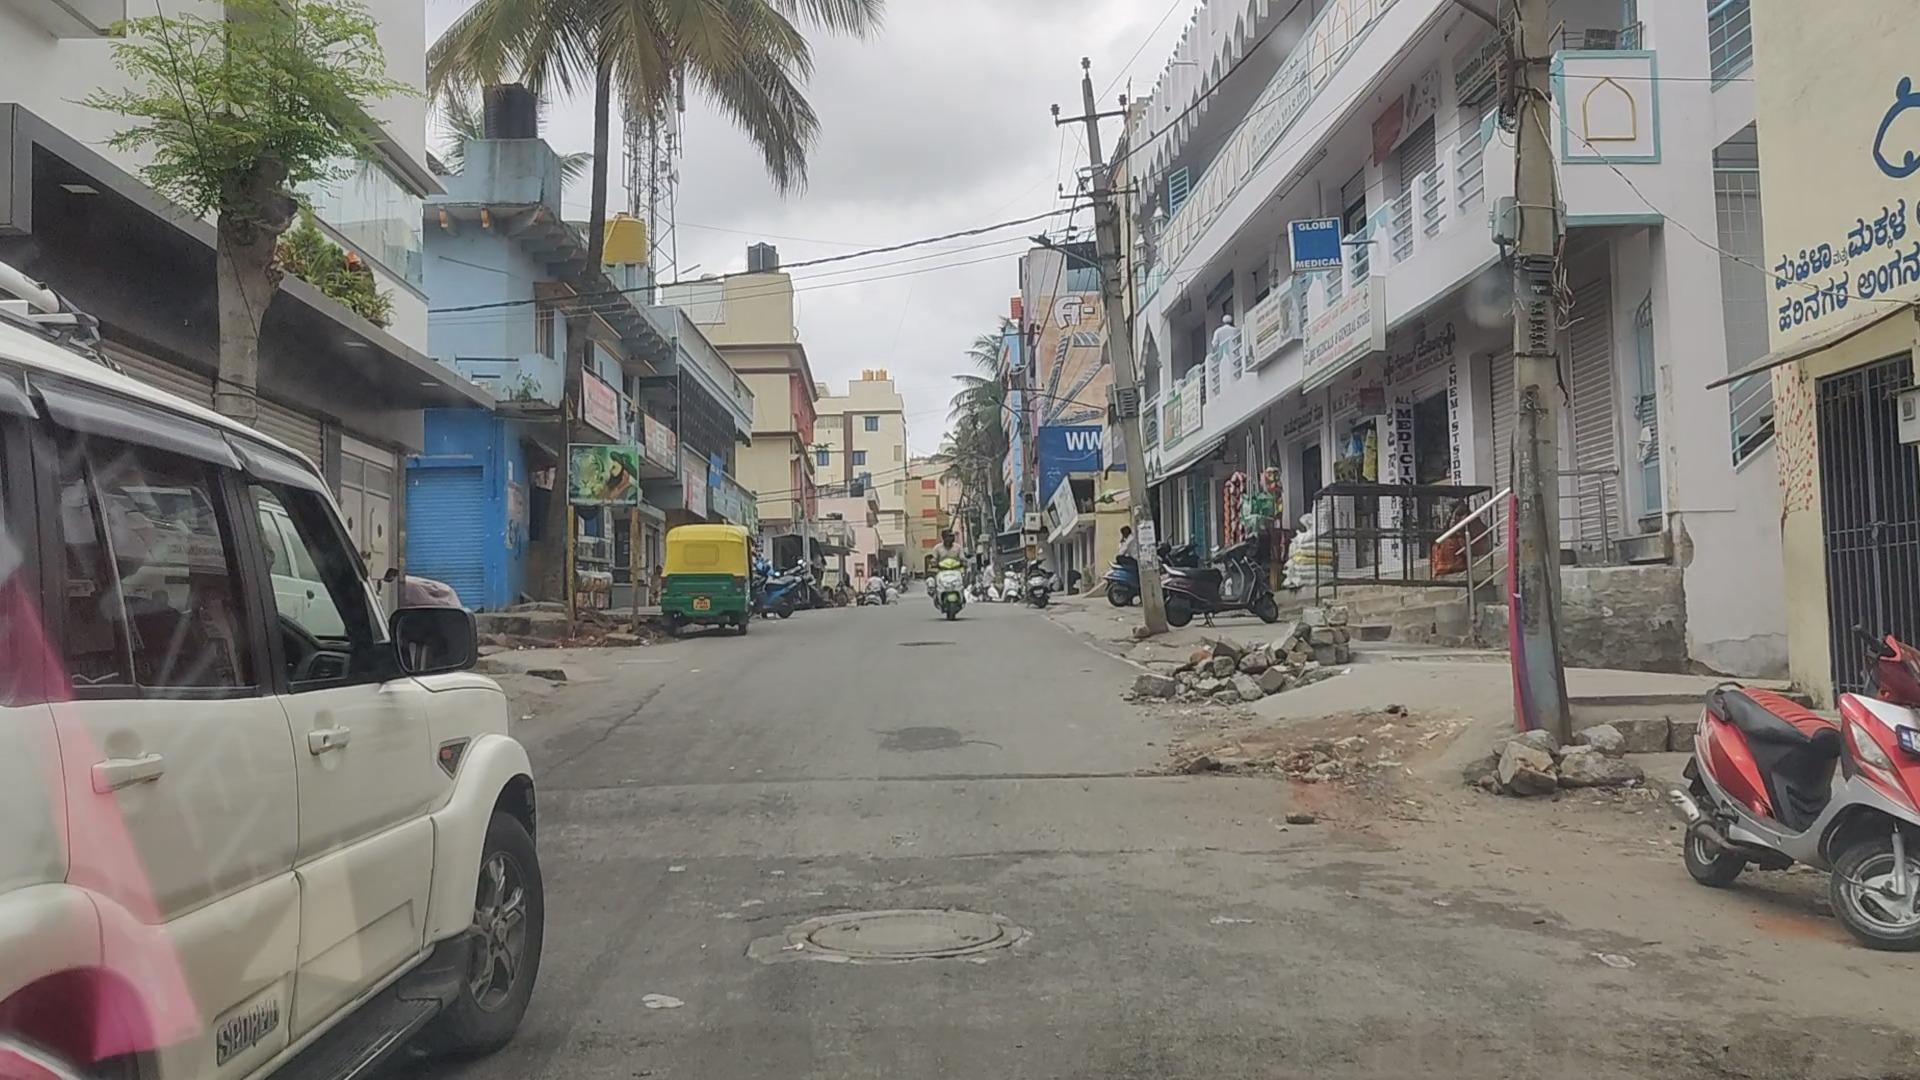RoadDamages: (778, 904, 1044, 994)
